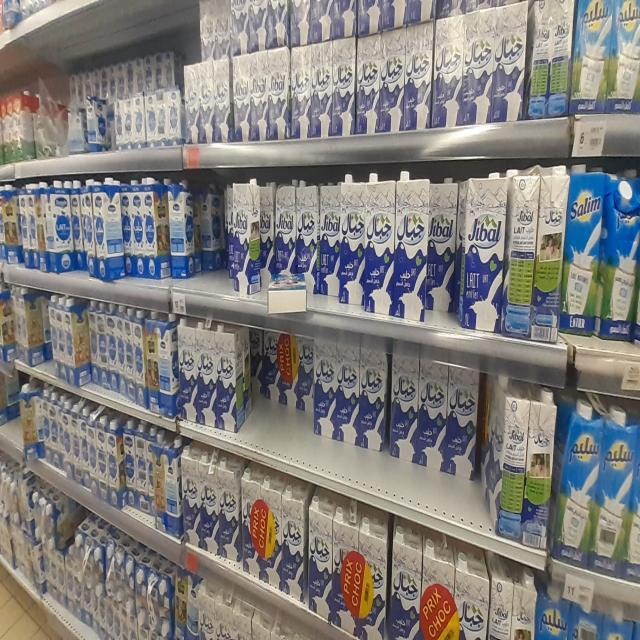produto: (4, 175, 629, 309), (203, 1, 634, 161)
vazio: (222, 330, 516, 473), (2, 1, 198, 163)
